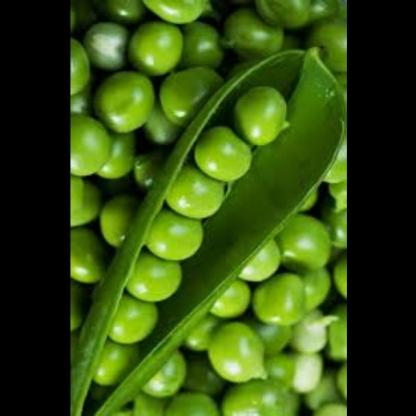peas: (70, 0, 347, 416), (158, 181, 238, 246), (224, 97, 297, 163), (130, 224, 208, 276), (84, 336, 151, 392), (193, 138, 256, 193), (106, 294, 165, 352), (132, 271, 188, 308)
